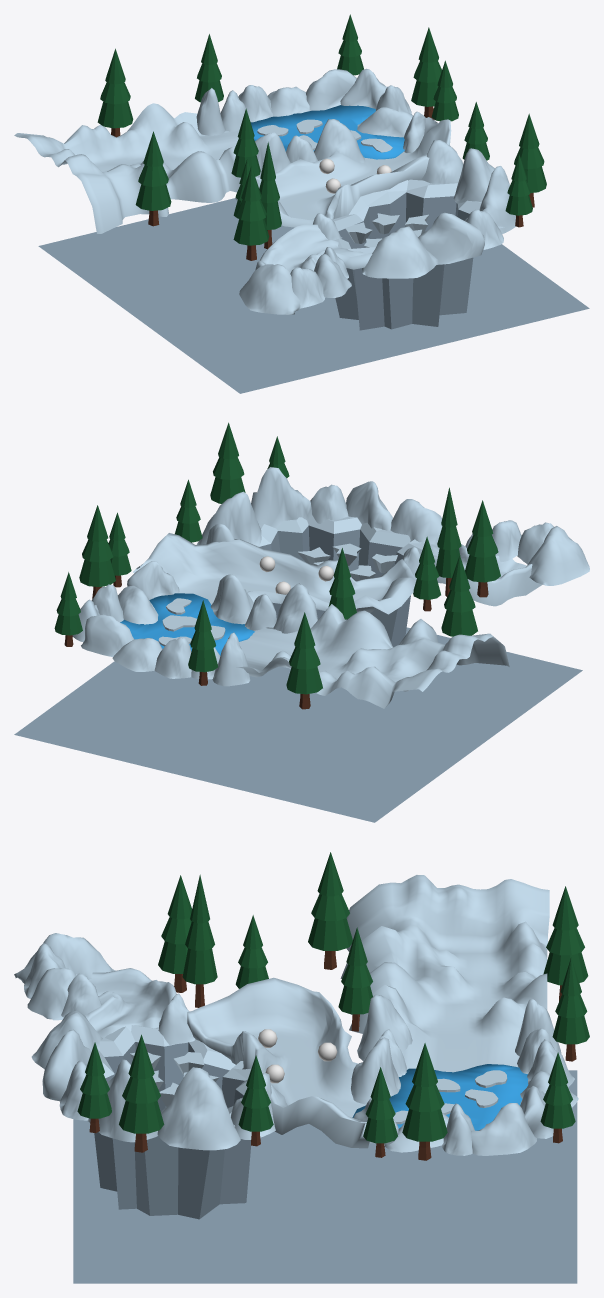
The model's file is InvernoBlocagemJV.fbx.
3 renders of one model, top to bottom at view 1: azimuth 30°, elevation 25°; view 2: azimuth 150°, elevation 25°; view 3: azimuth 270°, elevation 25°, orthographic. The views are drawn at different scales.
Visible parts, largest first — view 1: Terreno, Plane, Pinheiro.011, Pinheiro.007, Pinheiro.012, Pinheiro.002, Pinheiro.009, Pinheiro.006, Plataformas, Pinheiro.008, Pinheiro, Pinheiro.001 (+3 smaller); view 2: Terreno, Plane, Pinheiro.012, Pinheiro.007, Pinheiro.002, Pinheiro.011, Pinheiro.009, Pinheiro.006, Pinheiro.001, Plataformas, Pinheiro.010, Pinheiro.004 (+3 smaller); view 3: Terreno, Plane, Pinheiro.009, Pinheiro.011, Pinheiro.002, Pinheiro.006, Pinheiro.012, Pinheiro.007, Pinheiro.001, Pinheiro, Pinheiro.008, Pinheiro.003 (+4 smaller).
Boxes of the visible parts, <box> form: Terreno: <box>14,68,515,330</box>; Plane: <box>38,198,589,393</box>; Pinheiro.011: <box>135,131,171,226</box>; Pinheiro.007: <box>233,166,269,260</box>; Pinheiro.012: <box>97,48,133,137</box>; Pinheiro.002: <box>411,27,441,119</box>; Pinheiro.009: <box>514,113,546,207</box>; Pinheiro.006: <box>259,142,281,249</box>; Plataformas: <box>345,213,428,247</box>; Pinheiro.008: <box>505,154,532,227</box>; Pinheiro: <box>231,108,260,177</box>; Pinheiro.001: <box>195,34,223,102</box>; Terreno: <box>72,467,589,708</box>; Plane: <box>14,627,582,822</box>; Pinheiro.012: <box>286,612,322,709</box>; Pinheiro.007: <box>465,500,500,597</box>; Pinheiro.002: <box>79,505,115,598</box>; Pinheiro.011: <box>441,555,477,636</box>; Pinheiro.009: <box>210,422,245,503</box>; Pinheiro.006: <box>436,487,461,596</box>; Pinheiro.001: <box>188,600,218,685</box>; Plataformas: <box>297,543,397,580</box>; Pinheiro.010: <box>413,536,440,611</box>; Pinheiro.004: <box>54,572,82,646</box>; Terreno: <box>14,875,578,1219</box>; Plane: <box>73,1070,577,1283</box>; Pinheiro.009: <box>119,1034,164,1152</box>; Pinheiro.011: <box>308,852,352,969</box>; Pinheiro.002: <box>402,1043,447,1160</box>; Pinheiro.006: <box>182,874,217,1007</box>; Pinheiro.012: <box>543,886,588,1001</box>; Pinheiro.007: <box>158,875,191,992</box>; Pinheiro.001: <box>552,957,589,1061</box>; Pinheiro: <box>338,927,372,1031</box>; Pinheiro.008: <box>77,1042,111,1133</box>; Pinheiro.003: <box>363,1067,397,1157</box>.
Bounding box in the file's own units: 19904 × 9631 × 20567.
